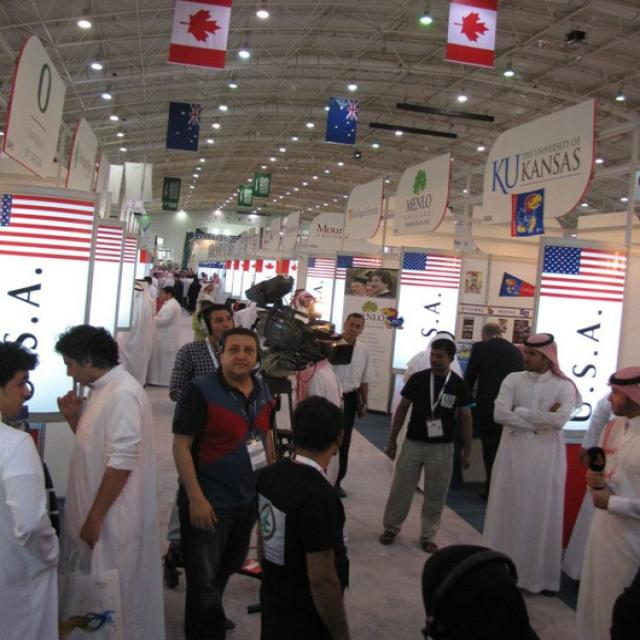body: (47, 320, 173, 639), (166, 324, 284, 639), (251, 393, 355, 640), (490, 331, 577, 594), (377, 336, 477, 554), (161, 302, 240, 569), (566, 361, 639, 639), (0, 338, 66, 639), (390, 329, 467, 496), (461, 322, 529, 503), (418, 541, 541, 639), (559, 393, 615, 604), (322, 312, 372, 499), (192, 289, 316, 331), (116, 282, 154, 390), (152, 284, 184, 388), (149, 260, 222, 290), (608, 568, 638, 640), (346, 268, 398, 300), (194, 278, 218, 338)
